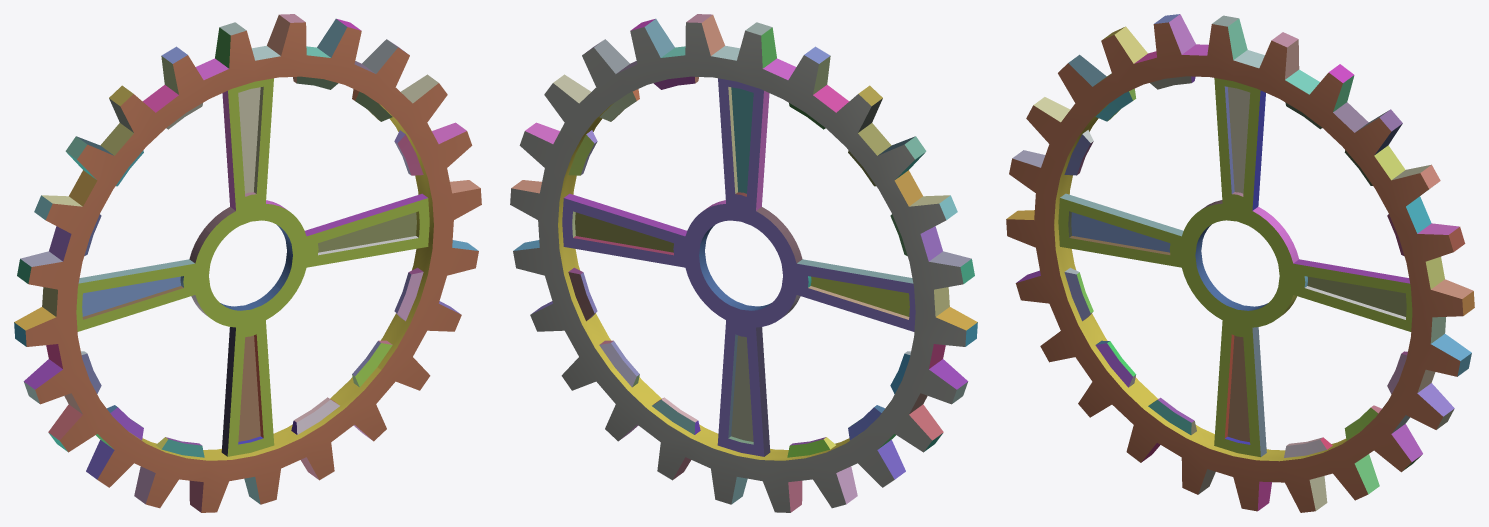
Rendered from module-timer-02.glb.
The picture shows the model from 3 angles, left to right: view 1: azimuth 30°, elevation 25°; view 2: azimuth 150°, elevation 25°; view 3: azimuth 330°, elevation 25°; orthographic projection.
Size of the model in its own units: 1.84 by 1.84 by 0.1.
